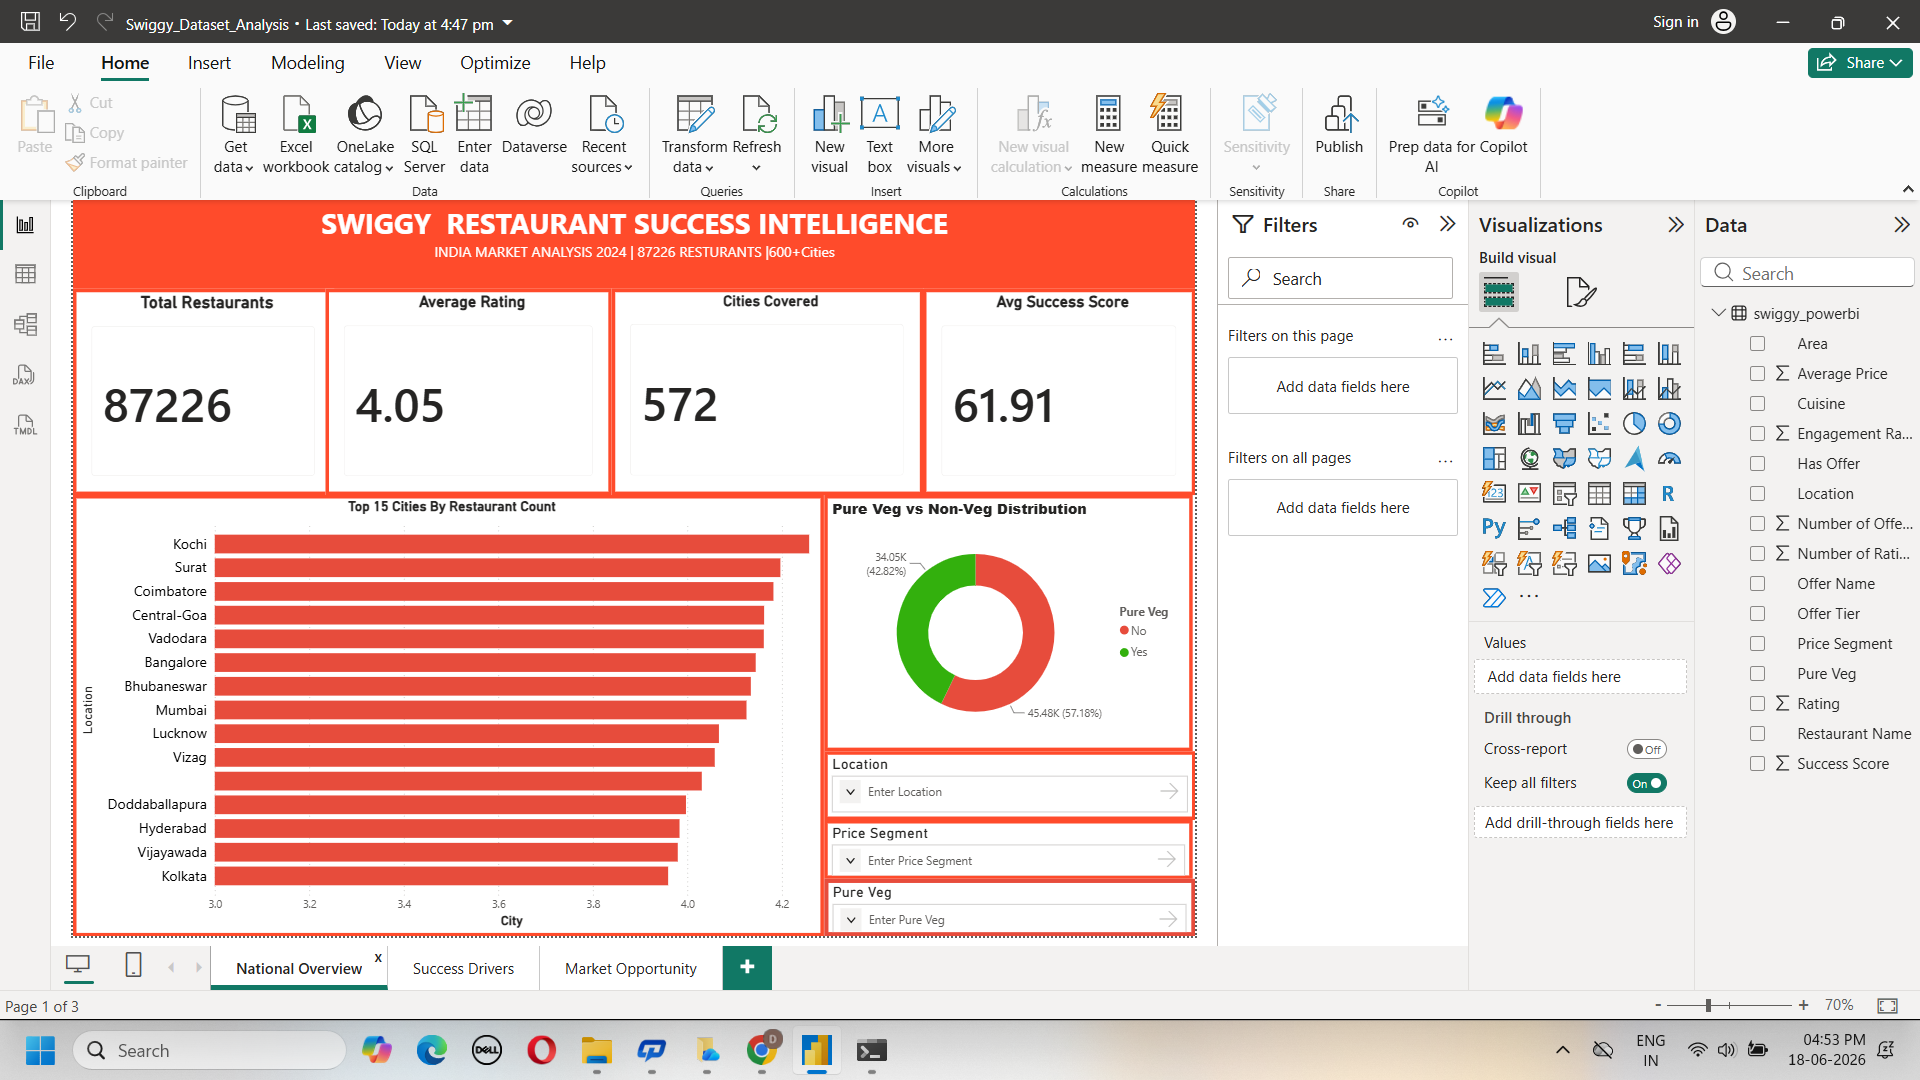

Layout of this report page (visuals, bound fields, positions):
{"tool":"powerbi","page":{"name":"National Overview ","canvas":[1280,839],"ordinal":0},"visuals":[{"type":"shape","box":[0,0,1280.3,101.5],"z":0},{"type":"textbox","box":[0,0,1280.3,101.5],"z":1000},{"type":"cardVisual","title":"Total Restaurants","fields":{"Data":["CountNonNull(swiggy_powerbi.Restaurant Name)"]},"box":[0,101.2,297.8,235.1],"z":2000},{"type":"cardVisual","title":"Average Rating","fields":{"Data":["Avg(swiggy_powerbi.Rating)"]},"box":[287.8,101.2,326.3,235.1],"z":3000},{"type":"cardVisual","title":"Cities Covered ","fields":{"Data":["Count(swiggy_powerbi.Location)"]},"box":[614.1,101.2,354.8,235.1],"z":4000},{"type":"cardVisual","title":"Avg Success Score","fields":{"Data":["Avg(swiggy_powerbi.Success Score)"]},"box":[969,101.2,310.6,235.1],"z":5000},{"type":"clusteredBarChart","title":"Top 15 Cities By Restaurant Count","fields":{"Category":["swiggy_powerbi.Location"],"Y":["Avg(swiggy_powerbi.Rating)"]},"box":[0,336.3,856.4,503],"z":6000},{"type":"donutChart","title":"Pure Veg vs Non-Veg Distribution","fields":{"Category":["swiggy_powerbi.Pure Veg"],"Y":["CountNonNull(swiggy_powerbi.Restaurant Name)"]},"box":[856.4,336.3,420.4,292.1],"z":7000},{"type":"textSlicer","fields":{"Values":["swiggy_powerbi.Location"]},"box":[856.4,628.4,423.2,78.4],"z":8000},{"type":"textSlicer","fields":{"Values":["swiggy_powerbi.Price Segment"]},"box":[856.4,706.8,420.4,67],"z":9000},{"type":"textSlicer","fields":{"Values":["swiggy_powerbi.Pure Veg"]},"box":[856.4,773.7,423.2,65.5],"z":10000}]}

Visuals, with their boxes on the page's 1280x839 design canvas (x1, y1, x2, y2). These are canvas units, not pixel positions in the 1920x1080 screenshot, which may show the page scaled, cropped or inside an application window:
shape: (0, 0, 1280, 102)
textbox: (0, 0, 1280, 102)
"Total Restaurants" cardVisual: (0, 101, 298, 336)
"Average Rating" cardVisual: (288, 101, 614, 336)
"Cities Covered " cardVisual: (614, 101, 969, 336)
"Avg Success Score" cardVisual: (969, 101, 1280, 336)
"Top 15 Cities By Restaurant Count" clusteredBarChart: (0, 336, 856, 839)
"Pure Veg vs Non-Veg Distribution" donutChart: (856, 336, 1277, 628)
textSlicer - swiggy_powerbi.Location: (856, 628, 1280, 707)
textSlicer - swiggy_powerbi.Price Segment: (856, 707, 1277, 774)
textSlicer - swiggy_powerbi.Pure Veg: (856, 774, 1280, 839)
